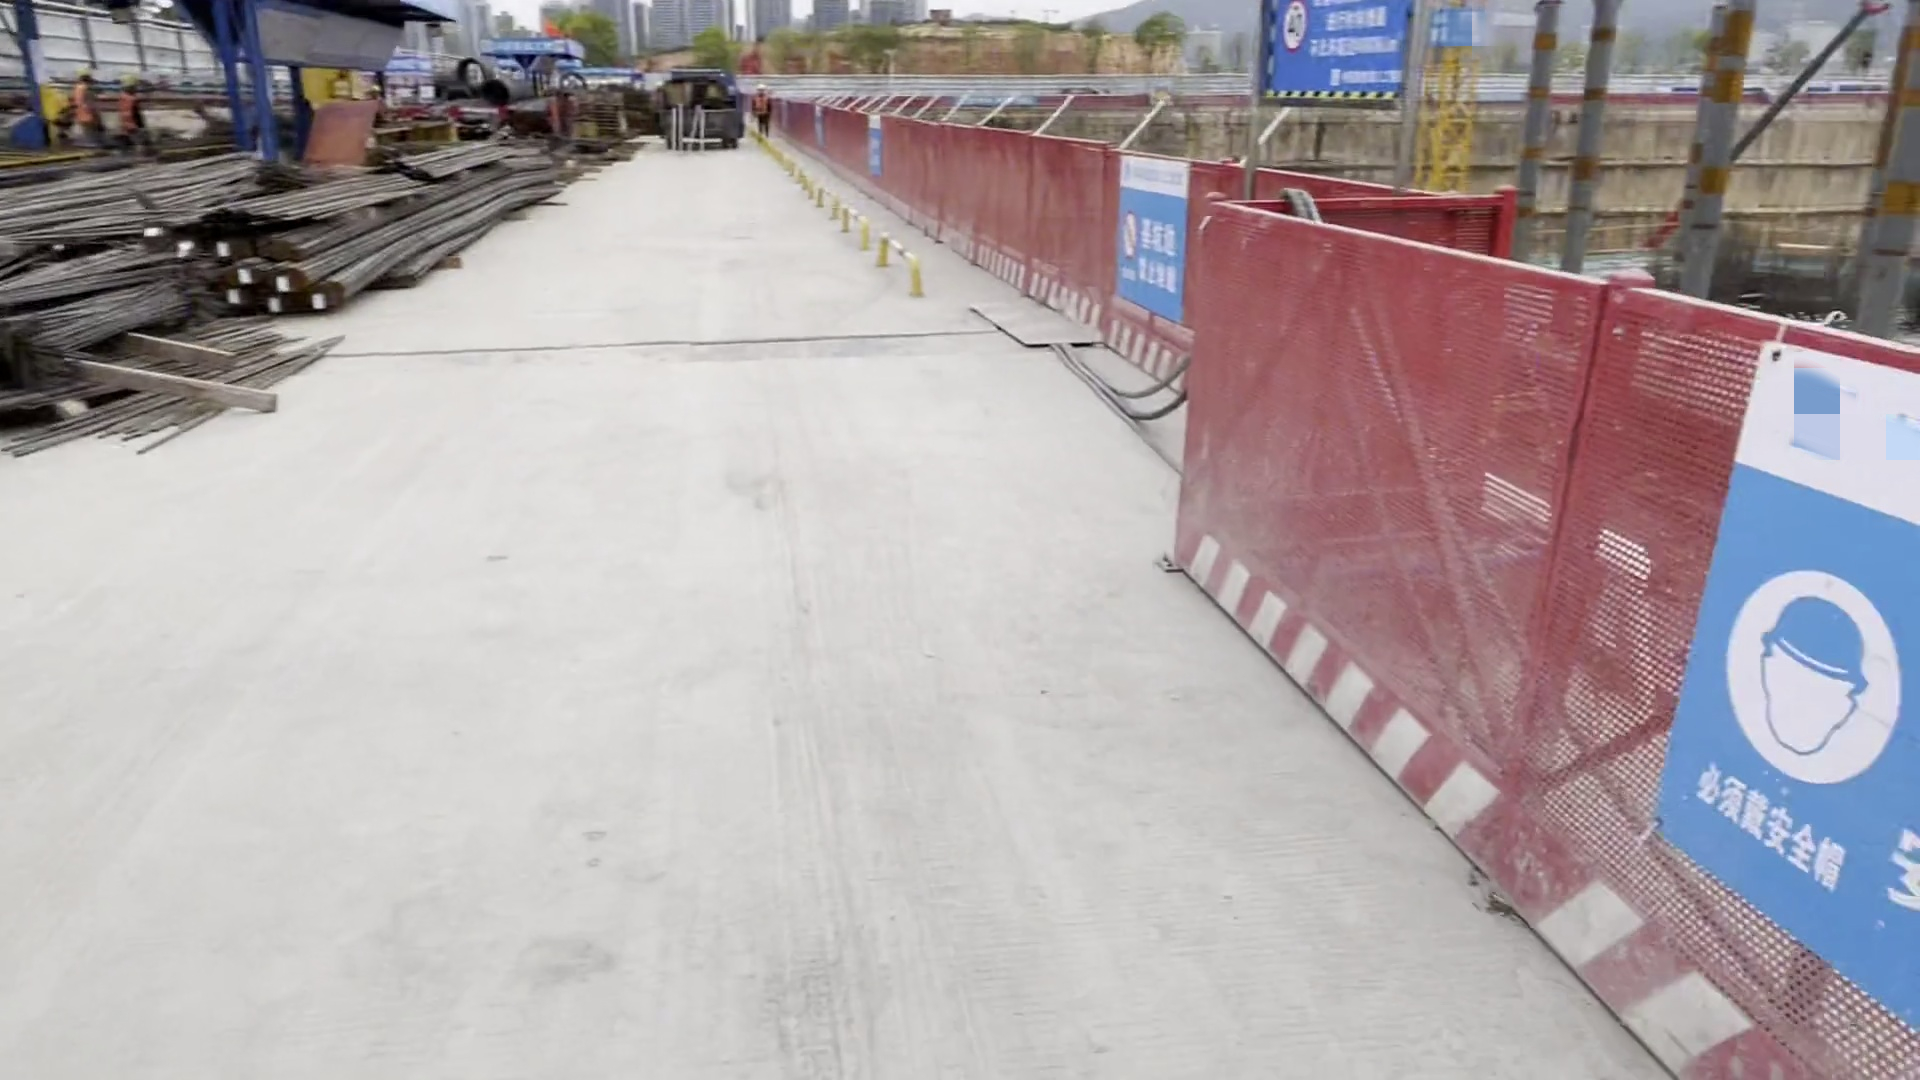fence: (870, 116, 1920, 917)
helmet: (118, 74, 139, 89), (76, 67, 95, 79), (757, 83, 767, 92)
person: (109, 69, 152, 133), (65, 62, 97, 140), (754, 81, 772, 141)
rebar: (55, 147, 451, 353)
slogan: (1714, 419, 1920, 955), (1093, 180, 1193, 308)
vest: (71, 84, 97, 121), (117, 92, 143, 129), (755, 95, 769, 117)
